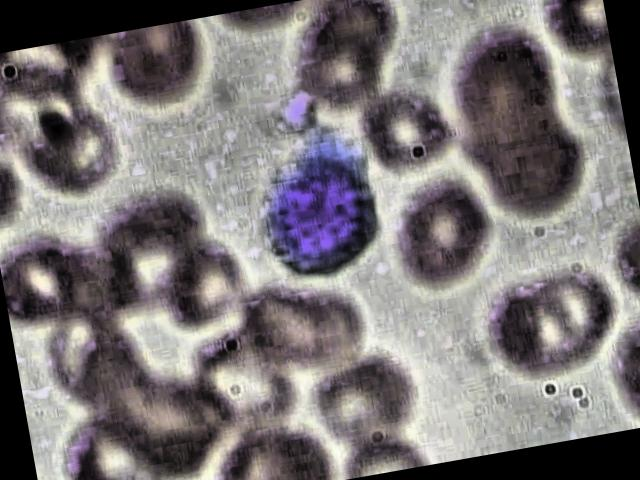Platelets: (280, 86, 320, 134)
WBC: (233, 116, 404, 302)
